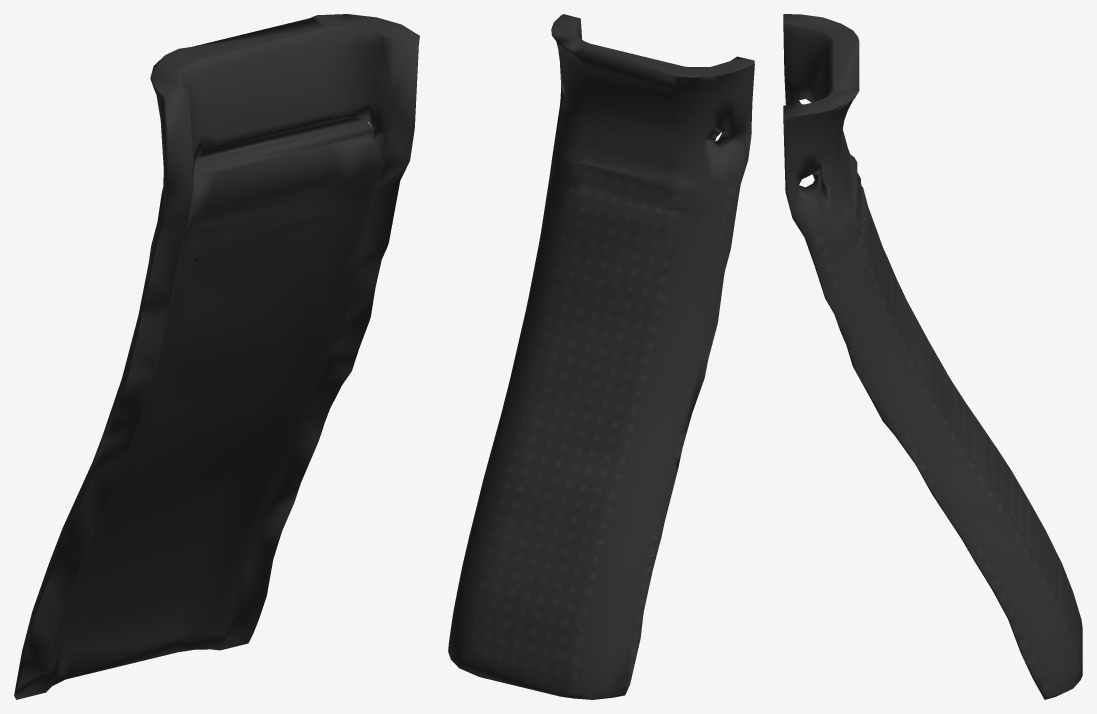
Rendered from SM_G17_Backstrap_LOD1.fbx.
3 views of the same model, side by side, from view 1: azimuth 30°, elevation 25°; view 2: azimuth 150°, elevation 25°; view 3: azimuth 270°, elevation 25° (orthographic). The views are drawn at different scales.
Parts seen in each view (by area): view 1: SM_G17_Backstrap_LOD1; view 2: SM_G17_Backstrap_LOD1; view 3: SM_G17_Backstrap_LOD1.
Part boxes in pixels (bbox=[...]): SM_G17_Backstrap_LOD1: bbox=[14, 14, 419, 699]; SM_G17_Backstrap_LOD1: bbox=[448, 14, 754, 699]; SM_G17_Backstrap_LOD1: bbox=[783, 14, 1082, 699].
Size of the model in its own units: 2.93 by 3.63 by 7.89.
